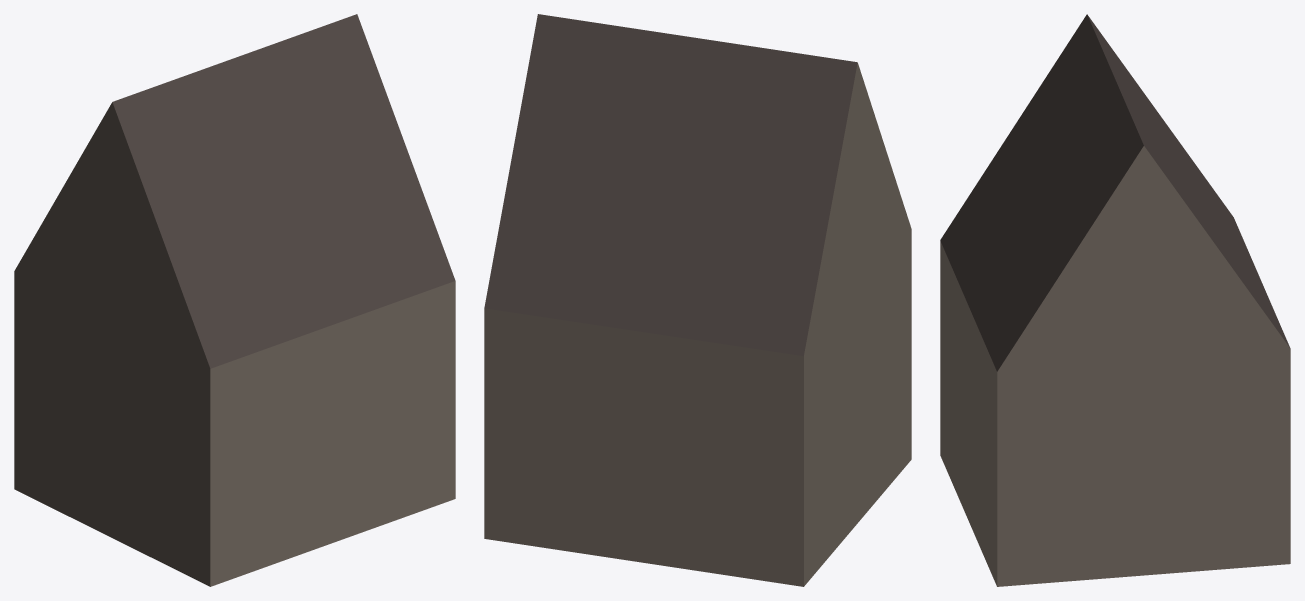
The picture shows the model from 3 angles, left to right: view 1: azimuth 30°, elevation 25°; view 2: azimuth 150°, elevation 25°; view 3: azimuth 270°, elevation 25°; orthographic projection. The views are drawn at different scales.
Parts seen in each view (by area): view 1: HP-w428196098; view 2: HP-w428196098; view 3: HP-w428196098.
Part boxes in pixels (x1,y1,x2,y2): HP-w428196098: (14, 14, 455, 586); HP-w428196098: (484, 14, 911, 586); HP-w428196098: (940, 14, 1290, 586).
Bounding box in the file's own units: 4.62 × 6 × 4.43.
